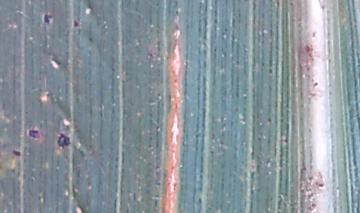tarspot: (55, 132, 73, 150), (27, 128, 41, 140), (42, 13, 54, 25), (49, 56, 62, 67), (11, 148, 22, 158), (72, 18, 80, 28), (304, 43, 310, 56), (312, 81, 320, 90), (87, 35, 95, 44), (319, 4, 327, 12), (317, 181, 324, 189), (267, 67, 274, 75), (311, 29, 316, 39), (288, 2, 296, 8), (266, 116, 272, 123), (173, 9, 179, 16)
